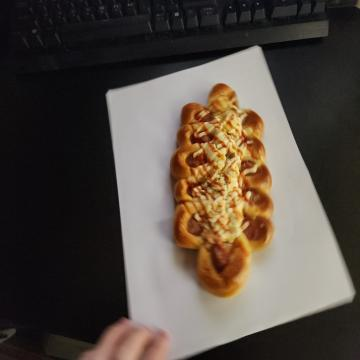pizza_bread: (170, 82, 276, 298)
